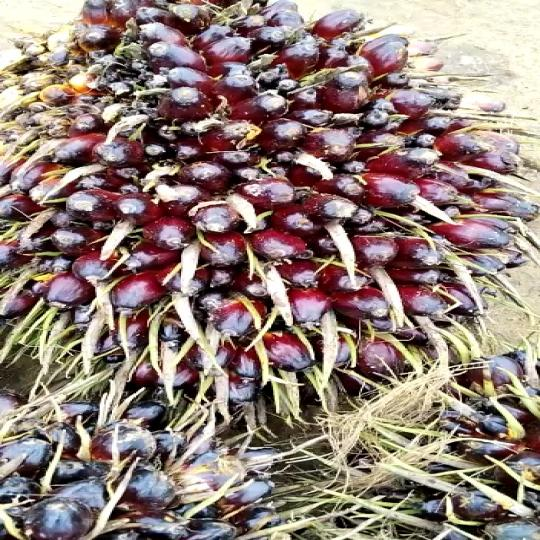mentah: (0, 0, 526, 425), (326, 384, 540, 540), (0, 414, 258, 538)
